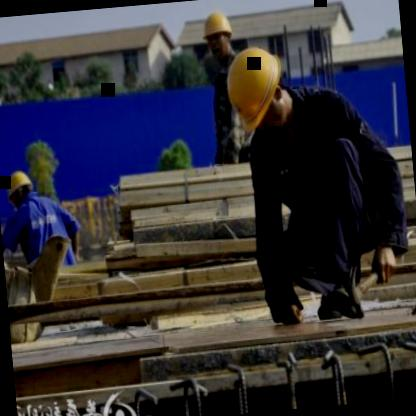helmet: (221, 42, 294, 134), (202, 10, 236, 61), (4, 166, 35, 210)
